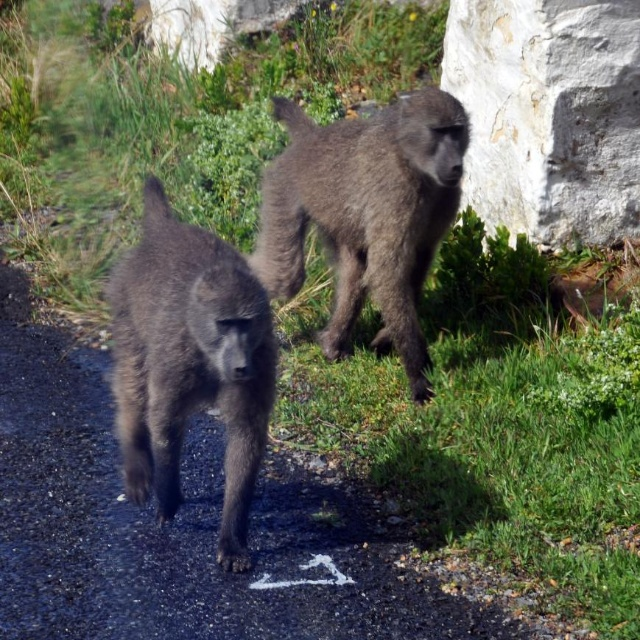Monkey: (244, 81, 482, 411), (110, 176, 286, 579)
